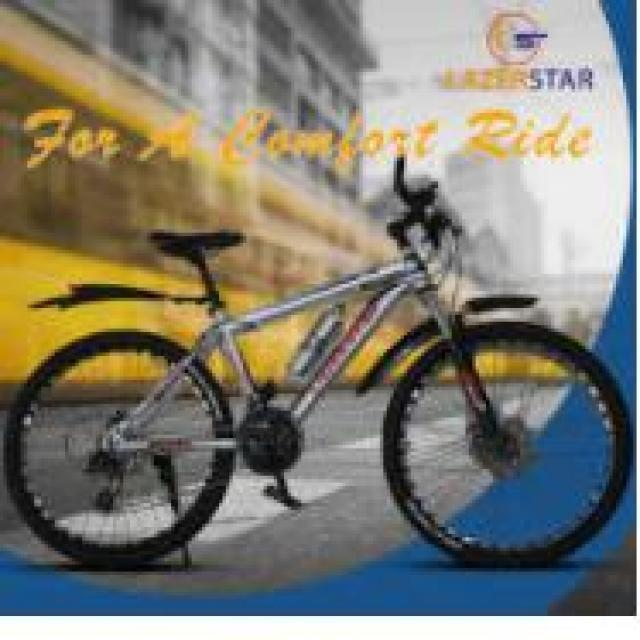bicycle: (15, 176, 631, 570)
